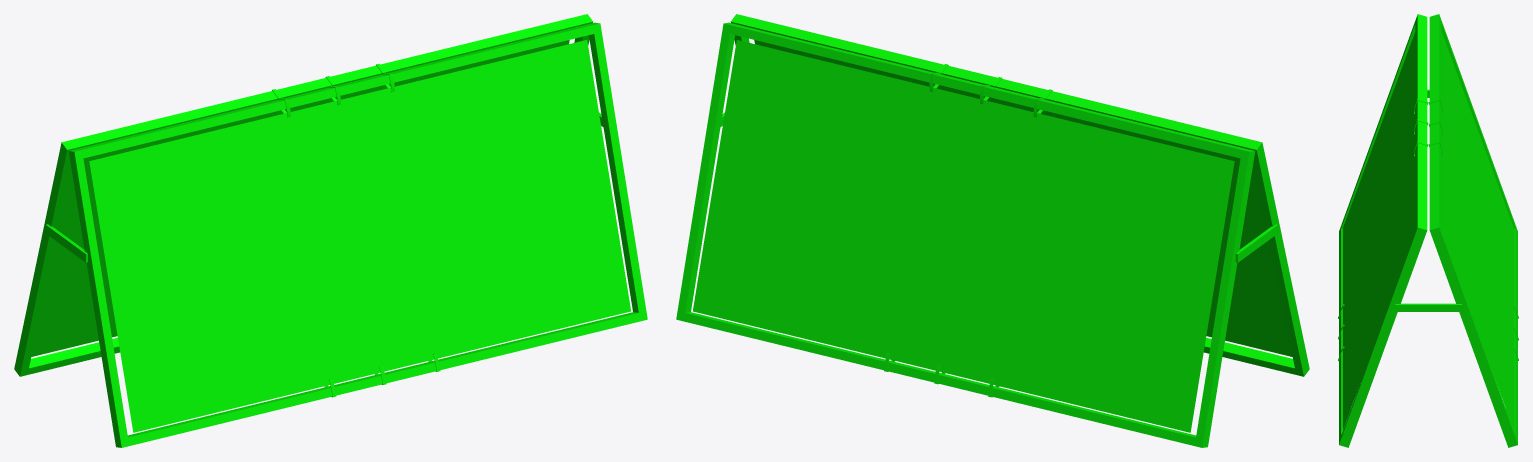
File: Valla3_Alex_Basterra.fbx
3 renders of one model, left to right at view 1: azimuth 30°, elevation 25°; view 2: azimuth 150°, elevation 25°; view 3: azimuth 270°, elevation 25°, orthographic. The views are drawn at different scales.
Parts seen in each view (by area): view 1: pPlane3, pCube2, pCube3, pPlane4; view 2: pPlane4, pCube3, pCube2, pPlane3; view 3: pPlane4, pPlane3, pCube2, pCube3, pCube4.
Boxes of the visible parts, bbox=[...] form: pPlane3: bbox=[89, 40, 630, 432]; pCube2: bbox=[68, 22, 647, 447]; pCube3: bbox=[14, 14, 593, 376]; pPlane4: bbox=[31, 40, 569, 356]; pPlane4: bbox=[693, 40, 1234, 432]; pCube3: bbox=[676, 22, 1255, 447]; pCube2: bbox=[730, 14, 1309, 376]; pPlane3: bbox=[754, 40, 1292, 356]; pPlane4: bbox=[1441, 32, 1514, 429]; pPlane3: bbox=[1342, 32, 1415, 430]; pCube2: bbox=[1339, 14, 1427, 447]; pCube3: bbox=[1429, 14, 1517, 447]; pCube4: bbox=[1395, 303, 1461, 311].
Size of the model in its own units: 214 by 103 by 75.99.
